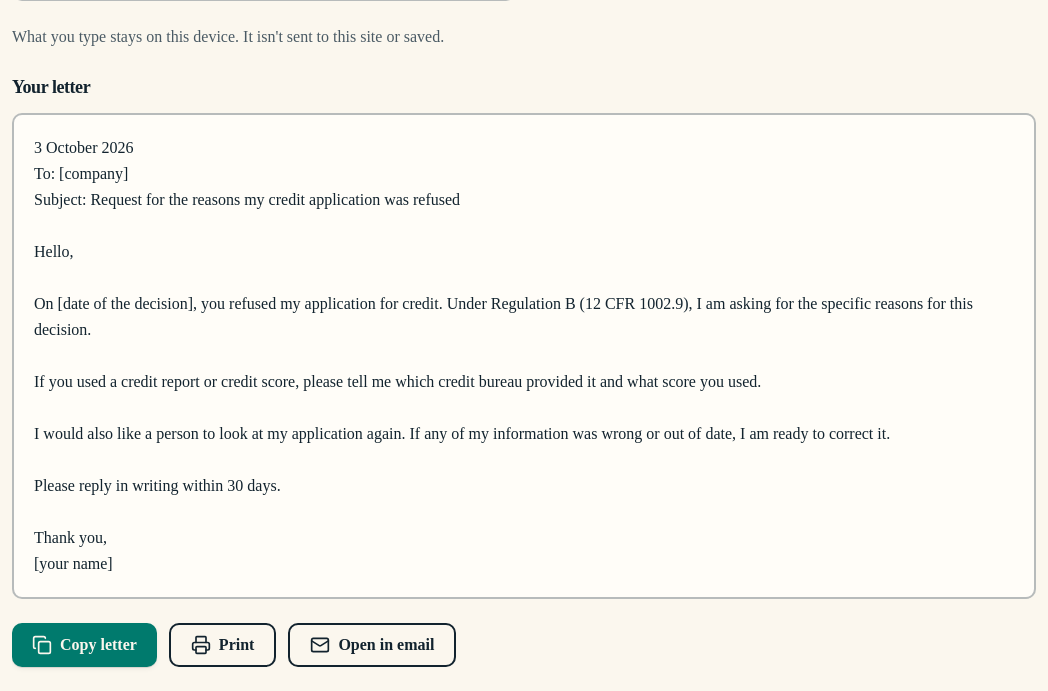
Test: LetterBuilder › says so when copying fails
(page scrolled)
Click the button "Copy letter" at (84, 645), box top-left (12, 623), bottom-right (157, 667)
(page scrolled)
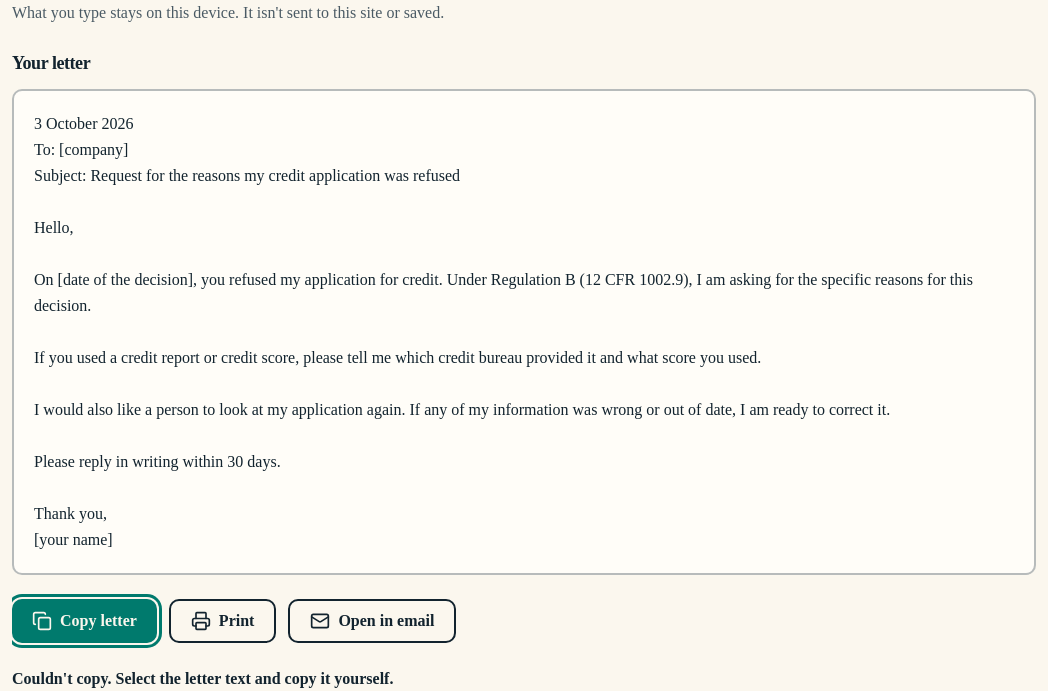
Result: the message shows "Couldn't copy." at top-left (12, 670), bottom-right (393, 687)
